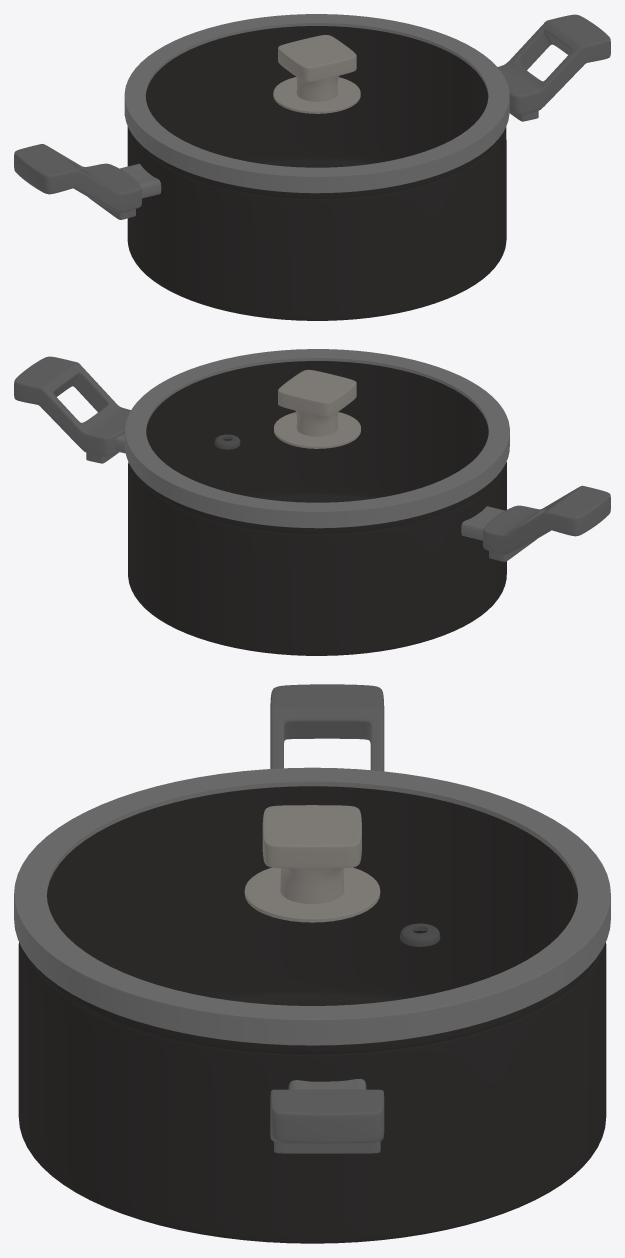
Rendered from POT2.glb.
3 renders of one model, top to bottom at view 1: azimuth 30°, elevation 25°; view 2: azimuth 150°, elevation 25°; view 3: azimuth 270°, elevation 25°, orthographic. The views are drawn at different scales.
Visible parts, largest first — view 1: polySurface19.010; view 2: polySurface19.010; view 3: polySurface19.010.
Part boxes in pixels (box(x1,y1,x2,y2)): polySurface19.010: box(14, 14, 610, 320); polySurface19.010: box(14, 349, 610, 655); polySurface19.010: box(14, 684, 610, 1243).
Size of the model in its own units: 0.4183 by 0.1351 by 0.2448.
3 materials, 1 textured.
